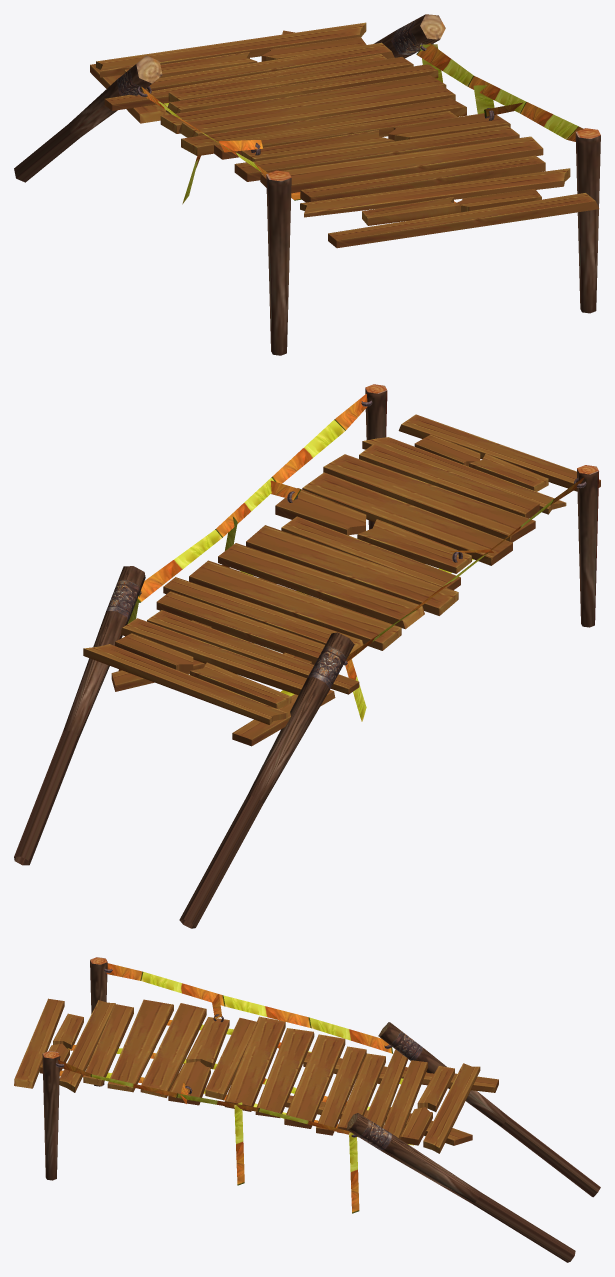
Rendered from qiao_003.FBX.
3 views of the same model, one above another, from view 1: azimuth 30°, elevation 25°; view 2: azimuth 150°, elevation 25°; view 3: azimuth 270°, elevation 25° (orthographic). The views are drawn at different scales.
Visible parts, largest first — view 1: qiao_003, qiao_00.; view 2: qiao_003, qiao_00.; view 3: qiao_003, qiao_00..
Part boxes in pixels (x1,y1,x2,y2): qiao_003: [14, 14, 600, 355]; qiao_00.: [141, 43, 583, 204]; qiao_003: [14, 384, 600, 928]; qiao_00.: [118, 394, 584, 721]; qiao_003: [14, 957, 600, 1262]; qiao_00.: [58, 963, 413, 1213].
Bounding box in the file's own units: 798 × 603 × 1586.
2 materials, 2 textured.
